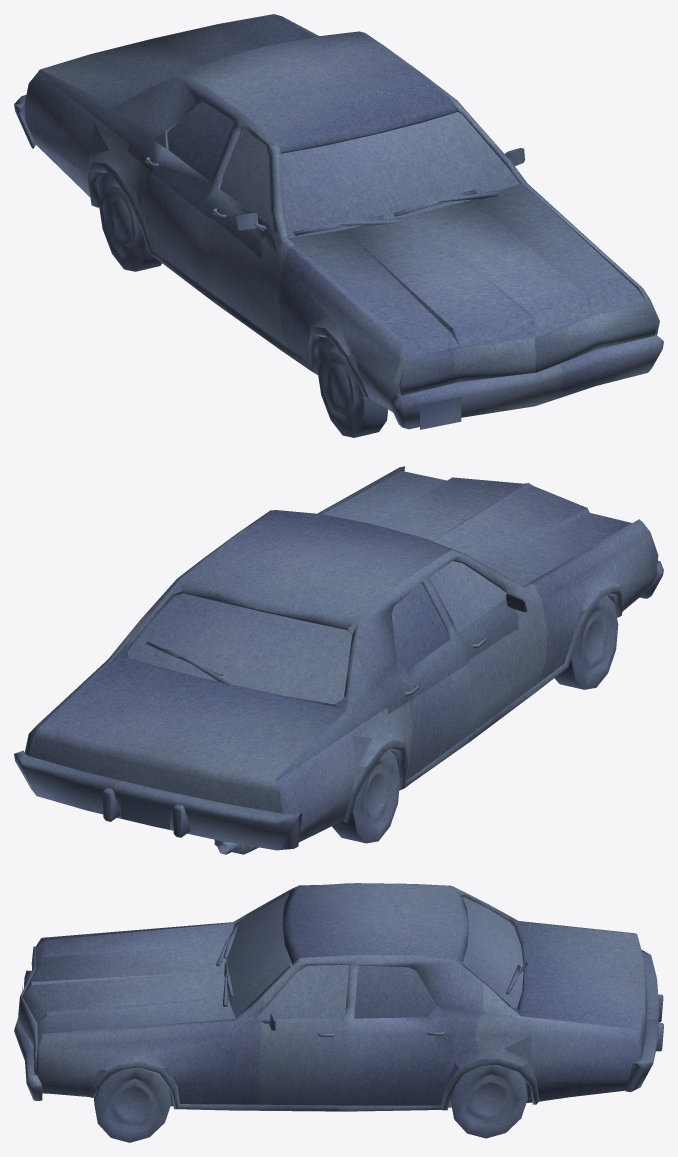
The model's file is construction.obj.
3 renders of one model, top to bottom at view 1: azimuth 30°, elevation 25°; view 2: azimuth 150°, elevation 25°; view 3: azimuth 270°, elevation 25°, orthographic. The views are drawn at different scales.
Parts seen in each view (by area): view 1: DrawCall14; view 2: DrawCall14; view 3: DrawCall14.
Boxes of the visible parts, box(x1,y1,x2,y2) form: DrawCall14: box(14, 14, 663, 437); DrawCall14: box(14, 466, 663, 854); DrawCall14: box(14, 883, 663, 1142).
Size of the model in its own units: 658 by 466 by 1562.
